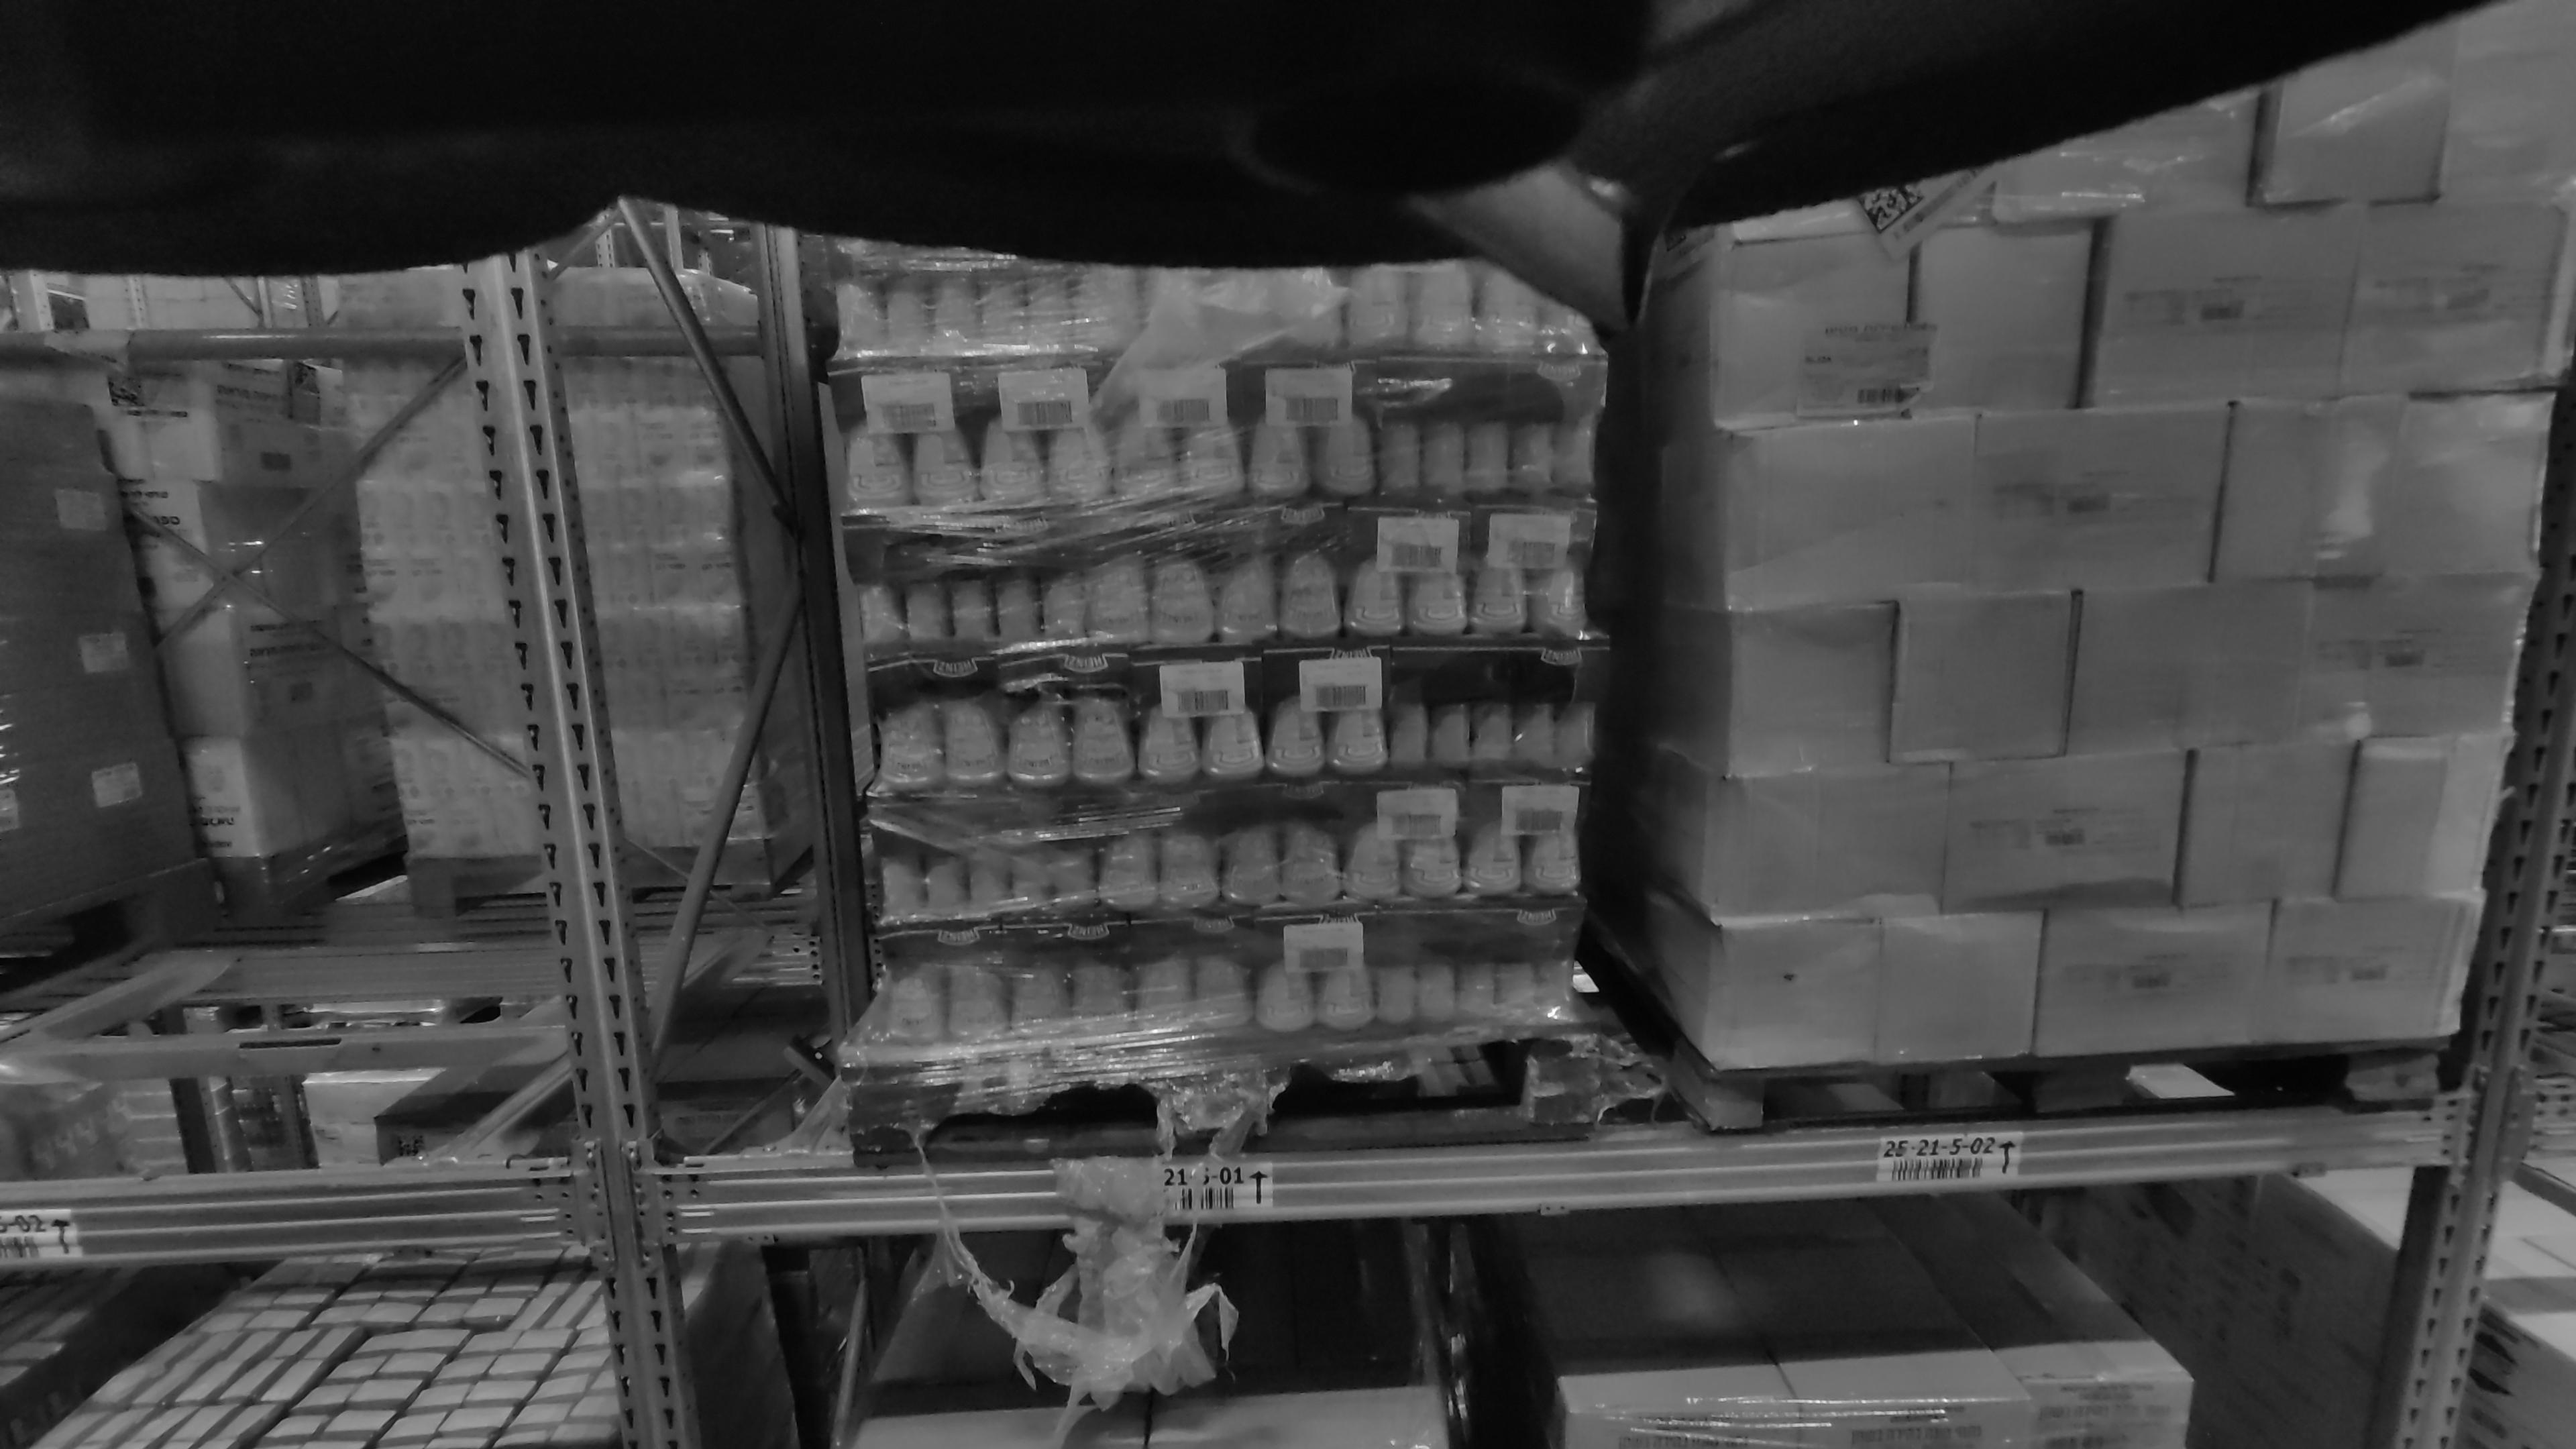empty-shelf: (0, 286, 465, 1145)
